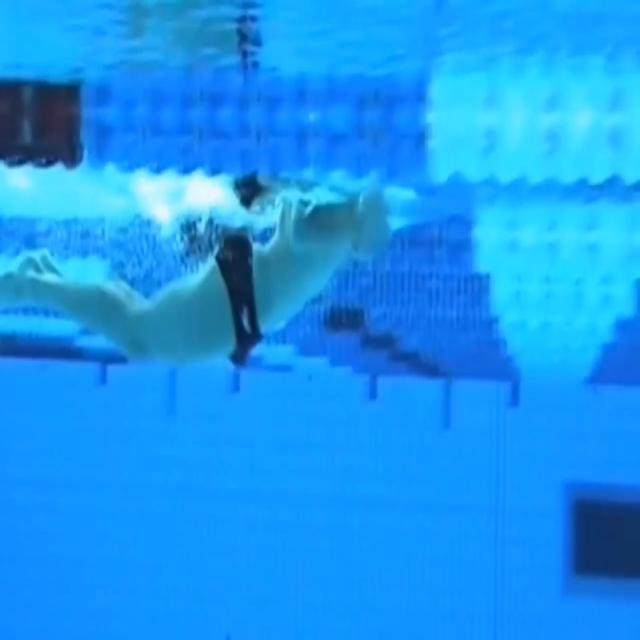Swimming: (0, 200, 390, 368)
